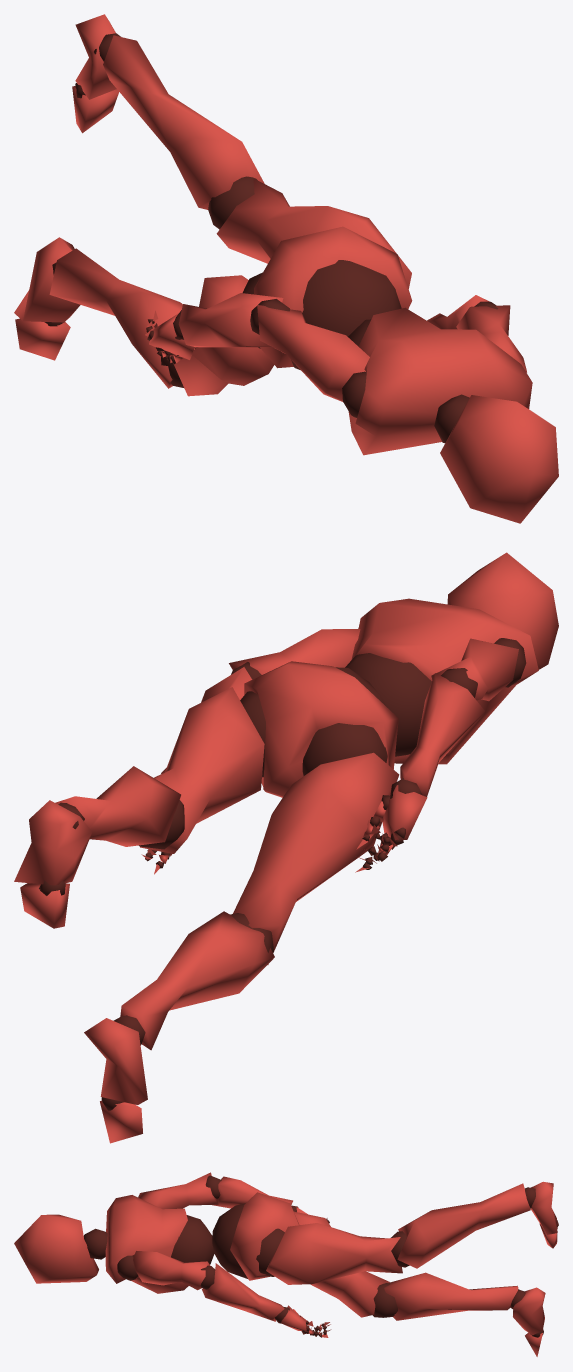
3 views of the same model, one above another, from view 1: azimuth 30°, elevation 25°; view 2: azimuth 150°, elevation 25°; view 3: azimuth 270°, elevation 25° (orthographic). The views are drawn at different scales.
Parts seen in each view (by area): view 1: Beta_Surface, Beta_Joints; view 2: Beta_Surface, Beta_Joints; view 3: Beta_Surface, Beta_Joints.
Part boxes in pixels (<box>): Beta_Surface: <box>14,14,558,523</box>; Beta_Joints: <box>44,33,498,443</box>; Beta_Surface: <box>14,552,558,1143</box>; Beta_Joints: <box>39,628,526,1110</box>; Beta_Surface: <box>14,1172,557,1356</box>; Beta_Joints: <box>83,1175,558,1337</box>.
Size of the model in its own units: 0.6087 by 0.6958 by 1.8.
